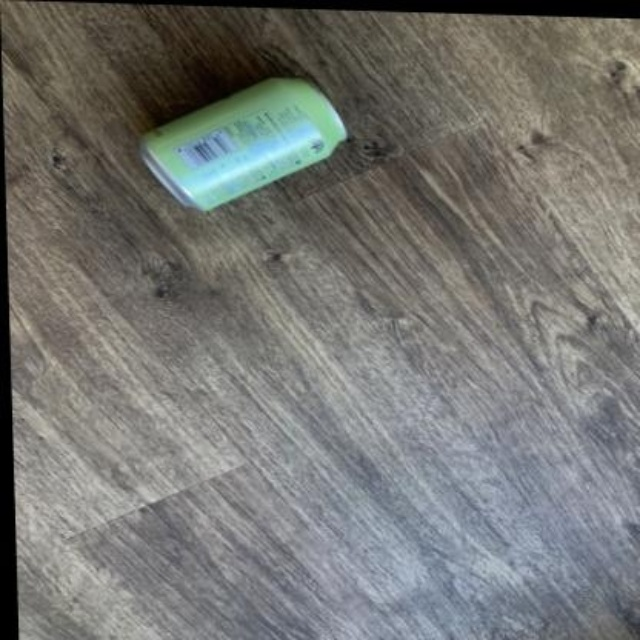trash: (140, 78, 345, 209)
